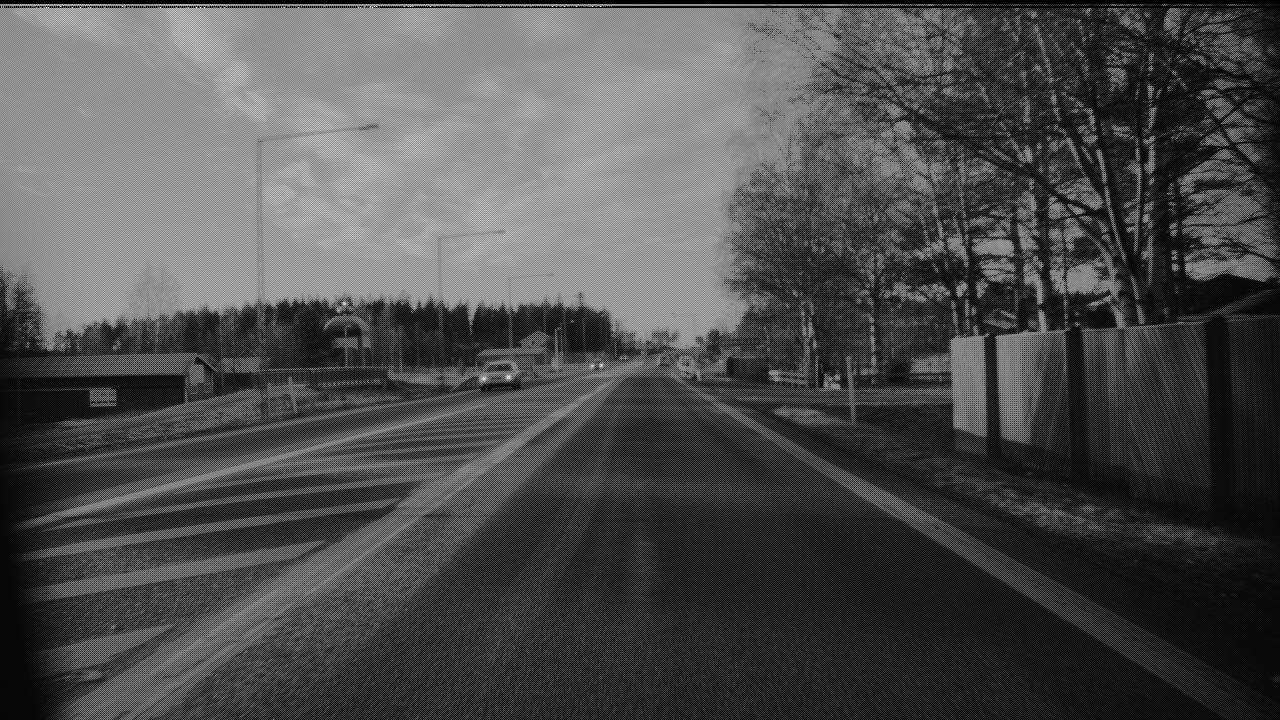pole: (254, 136, 268, 411), (436, 232, 443, 381)
